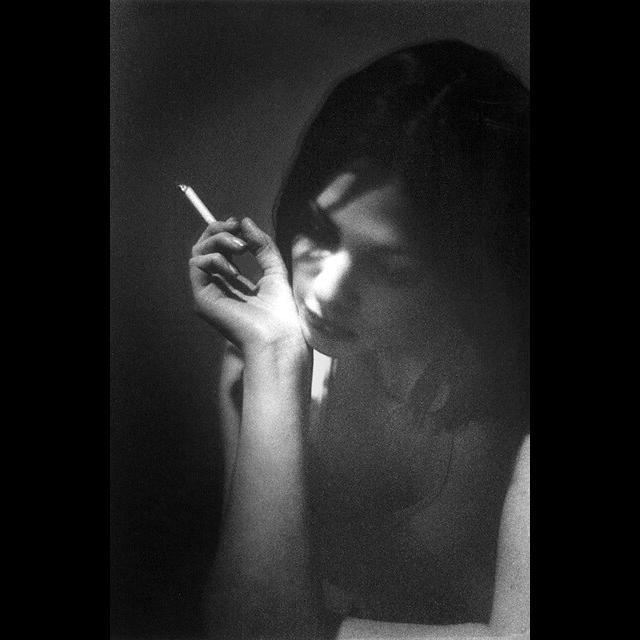rokok: (173, 184, 234, 232)
